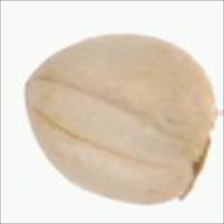L5: (23, 75, 200, 169), (185, 126, 213, 201)
L6: (19, 31, 220, 209)
